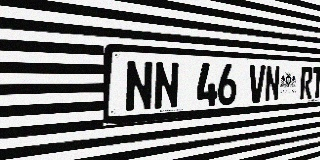4: (196, 63, 218, 107)
6: (217, 63, 237, 106)
N: (125, 60, 153, 113), (153, 61, 179, 111), (264, 65, 280, 102)
R: (300, 66, 313, 100)
T: (312, 67, 320, 99)
V: (248, 65, 265, 104)
